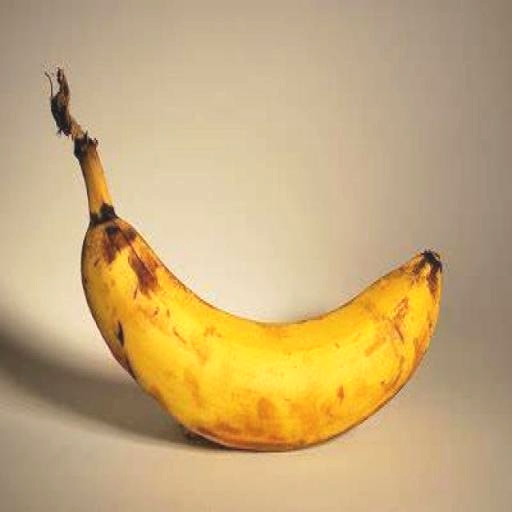fruit: (51, 70, 440, 450)
